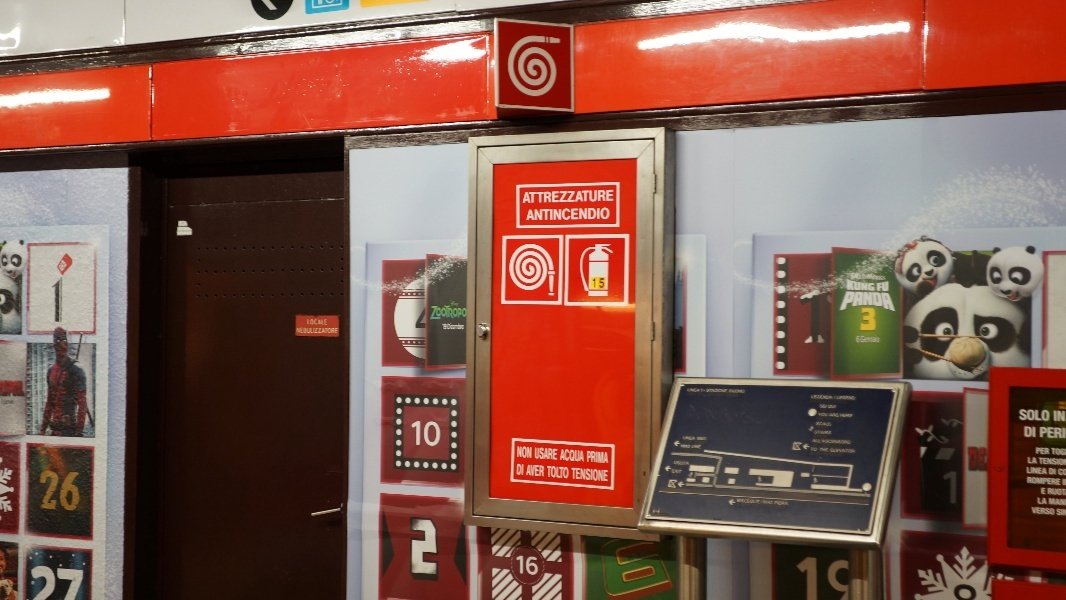text: (417, 517, 432, 581), (609, 538, 624, 600), (625, 538, 640, 600), (641, 538, 656, 600), (657, 538, 672, 600), (801, 288, 816, 344), (833, 557, 849, 600), (49, 469, 64, 514), (65, 469, 80, 514), (801, 557, 816, 600), (817, 557, 832, 600), (945, 470, 960, 509), (599, 538, 608, 600), (52, 278, 64, 323), (33, 564, 48, 599), (49, 564, 64, 599), (65, 564, 80, 599), (433, 517, 441, 581), (37, 469, 48, 514), (409, 517, 416, 581), (817, 288, 825, 344), (417, 421, 432, 447), (881, 291, 897, 312), (849, 291, 864, 312), (865, 291, 880, 312), (977, 447, 988, 474), (865, 308, 876, 332), (961, 583, 976, 600), (967, 447, 976, 474), (433, 305, 448, 321), (449, 305, 464, 321), (516, 556, 528, 576), (1025, 409, 1040, 425), (1041, 426, 1056, 442), (417, 305, 426, 331), (577, 468, 592, 483), (593, 468, 608, 483), (529, 189, 544, 204), (545, 189, 560, 204), (561, 189, 576, 204), (577, 189, 592, 204), (593, 189, 608, 204), (795, 557, 800, 600), (529, 464, 544, 478), (593, 451, 608, 465), (561, 449, 576, 463), (529, 207, 544, 221), (545, 207, 560, 221), (561, 207, 576, 221), (577, 207, 592, 221), (593, 207, 608, 221), (433, 421, 441, 447), (529, 556, 539, 576), (547, 466, 560, 480), (545, 447, 558, 461), (1025, 426, 1038, 440), (849, 280, 864, 292), (1041, 409, 1052, 425), (516, 464, 528, 476), (1057, 426, 1066, 442), (517, 446, 528, 459), (561, 466, 571, 480), (81, 564, 85, 599), (81, 469, 84, 514), (865, 273, 880, 282), (1041, 477, 1056, 486), (1041, 507, 1056, 516), (411, 421, 416, 447), (449, 323, 465, 331), (577, 449, 586, 463), (535, 447, 544, 461), (1057, 409, 1066, 423), (673, 538, 675, 600), (593, 278, 604, 289), (305, 327, 320, 335), (321, 327, 336, 335), (865, 336, 880, 344), (865, 280, 875, 292), (1041, 458, 1056, 466), (851, 273, 864, 282), (1027, 477, 1040, 486), (1026, 467, 1040, 475), (29, 564, 32, 599), (1041, 488, 1056, 495), (881, 281, 890, 292), (1018, 409, 1024, 425), (1027, 457, 1040, 464), (737, 499, 752, 505), (817, 395, 832, 401), (833, 395, 848, 401), (955, 583, 960, 600), (450, 300, 464, 306), (586, 451, 592, 465), (1057, 498, 1066, 507), (817, 430, 833, 435), (1041, 447, 1051, 455), (307, 320, 320, 326), (942, 470, 944, 509), (571, 468, 576, 483), (689, 388, 704, 393), (705, 388, 720, 393), (833, 440, 848, 445), (833, 449, 848, 454), (609, 189, 614, 204), (861, 308, 864, 332), (1057, 458, 1066, 466), (1057, 448, 1066, 456), (1032, 507, 1040, 516), (1047, 488, 1056, 496), (1057, 488, 1066, 496), (1048, 498, 1056, 507), (1057, 508, 1066, 516), (856, 336, 864, 344), (1041, 467, 1049, 475), (845, 291, 848, 312), (692, 445, 704, 450), (817, 422, 832, 426), (820, 448, 832, 453), (524, 189, 528, 204), (297, 327, 304, 335), (674, 462, 688, 466), (818, 413, 832, 417), (799, 288, 800, 344), (1058, 469, 1066, 476), (775, 501, 784, 507), (414, 305, 416, 331), (529, 446, 533, 459), (822, 440, 832, 445), (1041, 498, 1048, 505), (1049, 468, 1056, 475), (429, 305, 432, 321), (465, 305, 468, 321), (442, 323, 448, 331), (753, 499, 761, 505), (820, 405, 832, 409), (881, 273, 886, 282), (1057, 477, 1062, 486), (876, 281, 880, 292), (321, 320, 328, 326), (849, 395, 856, 401), (1053, 409, 1056, 423), (721, 388, 729, 393), (1035, 447, 1040, 455), (1051, 448, 1056, 456), (673, 470, 682, 474), (737, 389, 746, 393), (681, 444, 688, 449), (697, 436, 704, 441), (977, 583, 979, 600), (840, 414, 848, 418), (1062, 479, 1066, 487), (689, 435, 695, 440), (849, 449, 855, 454), (729, 389, 736, 393), (833, 413, 840, 417), (609, 207, 611, 221), (683, 435, 688, 440), (811, 447, 816, 452), (812, 395, 816, 401), (763, 501, 768, 505), (849, 414, 854, 418), (785, 501, 788, 507), (337, 327, 339, 335), (769, 501, 773, 505), (828, 405, 832, 409), (833, 405, 837, 409), (812, 439, 816, 443), (817, 439, 821, 443), (1039, 426, 1040, 442), (609, 468, 610, 483), (849, 440, 852, 445), (527, 464, 528, 478), (545, 464, 546, 478), (609, 451, 610, 465), (1038, 498, 1040, 505), (847, 280, 848, 292), (689, 444, 691, 449), (705, 436, 707, 441), (814, 430, 816, 435), (830, 413, 832, 417), (1039, 458, 1040, 466), (1057, 468, 1058, 475), (817, 447, 818, 452), (831, 449, 832, 454), (689, 462, 690, 466)
